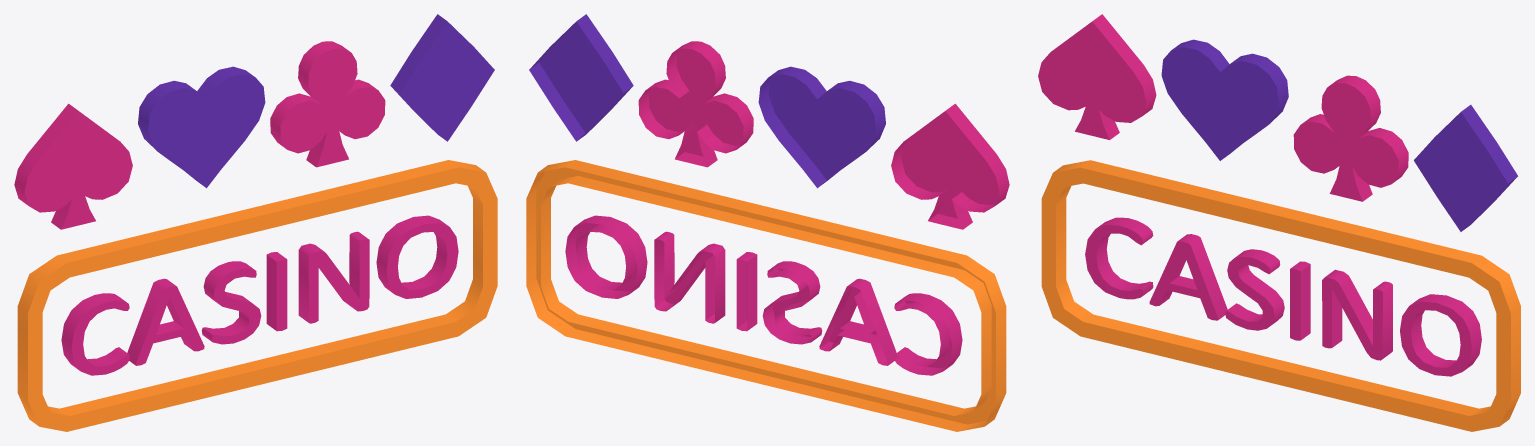
File: casino-assets-glb-neon-sign-01.glb
3 renders of one model, left to right at view 1: azimuth 30°, elevation 25°; view 2: azimuth 150°, elevation 25°; view 3: azimuth 330°, elevation 25°, orthographic.
Visible parts, largest first — view 1: Neon_Sign_01; view 2: Neon_Sign_01; view 3: Neon_Sign_01.
Part boxes in pixels (<box>): Neon_Sign_01: <box>14,14,497,431</box>; Neon_Sign_01: <box>526,14,1009,431</box>; Neon_Sign_01: <box>1038,14,1520,431</box>.
Size of the model in its own units: 1.62 by 1.04 by 0.0602.
1 material, 1 textured.
